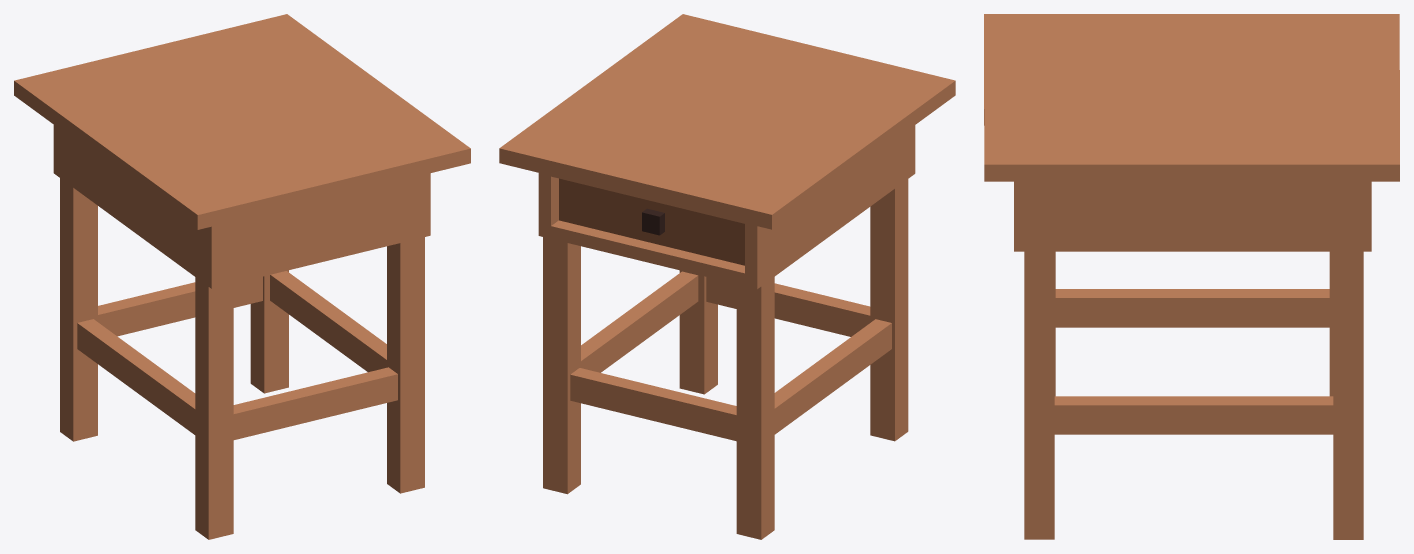
The model's file is beside_table.fbx.
The picture shows the model from 3 angles, left to right: view 1: azimuth 30°, elevation 25°; view 2: azimuth 150°, elevation 25°; view 3: azimuth 270°, elevation 25°; orthographic projection. The views are drawn at different scales.
Parts seen in each view (by area): view 1: Cube.081, Cube.083, Cube.082, Cube.084, Cube.089, Cube.086, Cube.087, Cube.088, Cube.085; view 2: Cube.081, Cube.084, Cube.085, Cube.083, Cube.088, Cube.086, Cube.087, Cube.089, Cube.082; view 3: Cube.081, Cube.087, Cube.086, Cube.082, Cube.085, Cube.084.
Boxes of the visible parts, box(x1,y1,x2,y2) form: Cube.081: box(14, 14, 470, 288); Cube.083: box(195, 277, 233, 539); Cube.082: box(387, 237, 424, 493); Cube.084: box(60, 178, 97, 441); Cube.089: box(233, 367, 397, 439); Cube.086: box(77, 319, 195, 434); Cube.087: box(270, 271, 386, 372); Cube.088: box(98, 276, 262, 336); Cube.085: box(250, 270, 288, 393); Cube.081: box(499, 14, 955, 289); Cube.084: box(736, 277, 774, 539); Cube.085: box(543, 237, 580, 494); Cube.083: box(870, 179, 908, 441); Cube.088: box(570, 368, 736, 441); Cube.086: box(774, 319, 891, 434); Cube.087: box(581, 271, 698, 372); Cube.089: box(706, 277, 870, 336); Cube.082: box(679, 270, 717, 394); Cube.081: box(984, 14, 1399, 251); Cube.087: box(1054, 396, 1333, 434); Cube.086: box(1055, 289, 1329, 327); Cube.082: box(1024, 251, 1054, 539); Cube.085: box(1333, 251, 1363, 539); Cube.084: box(1329, 251, 1333, 396).
Bounding box in the file's own units: 42.54 × 51.39 × 49.58.
